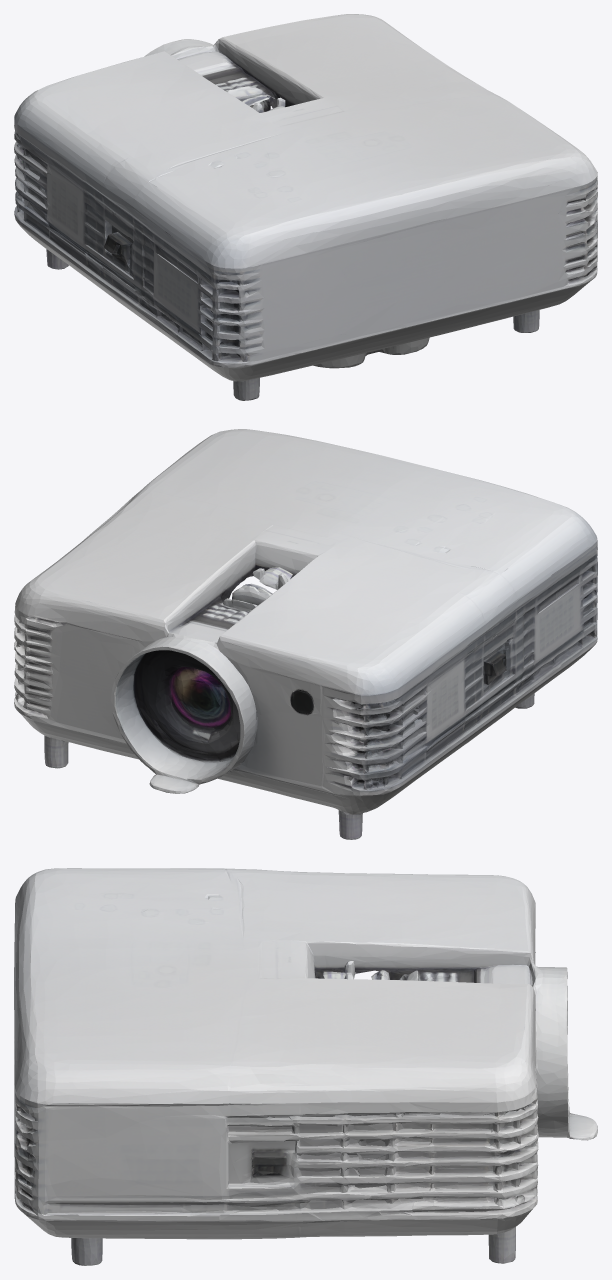
The picture shows the model from 3 angles, top to bottom: view 1: azimuth 30°, elevation 25°; view 2: azimuth 150°, elevation 25°; view 3: azimuth 270°, elevation 25°; orthographic projection. The views are drawn at different scales.
Parts seen in each view (by area): view 1: world; view 2: world; view 3: world.
Boxes of the visible parts, x1,y1,x2,y2 form: world: (14, 14, 597, 400); world: (14, 429, 597, 839); world: (14, 868, 597, 1265).
Bounding box in the file's own units: 0.8988 × 0.4165 × 0.9935.
Materials: 1 (1 with a texture image).
